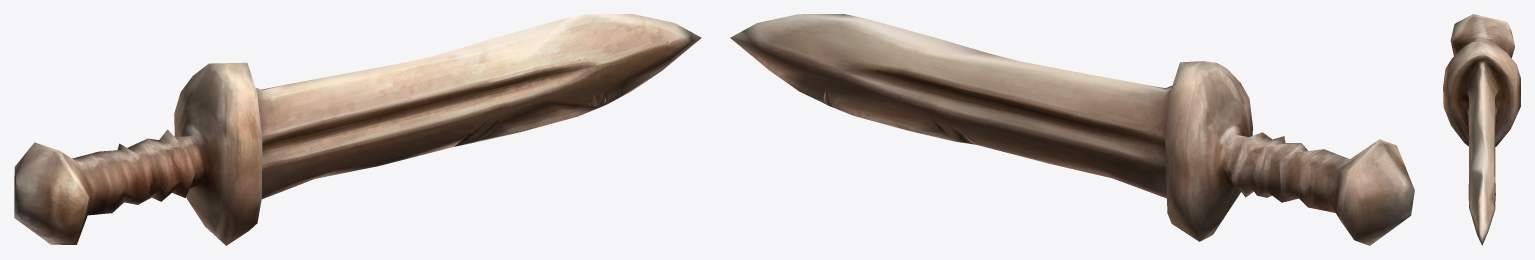
File: Sword.glb
3 views of the same model, side by side, from view 1: azimuth 30°, elevation 25°; view 2: azimuth 150°, elevation 25°; view 3: azimuth 270°, elevation 25° (orthographic). The views are drawn at different scales.
Visible parts, largest first — view 1: tripo_node_af1c66e6-25a8-447f-b82f-cc9cbadfaf6c; view 2: tripo_node_af1c66e6-25a8-447f-b82f-cc9cbadfaf6c; view 3: tripo_node_af1c66e6-25a8-447f-b82f-cc9cbadfaf6c.
Boxes of the visible parts, box(x1,y1,x2,y2) form: tripo_node_af1c66e6-25a8-447f-b82f-cc9cbadfaf6c: box(14, 14, 701, 245); tripo_node_af1c66e6-25a8-447f-b82f-cc9cbadfaf6c: box(730, 14, 1414, 245); tripo_node_af1c66e6-25a8-447f-b82f-cc9cbadfaf6c: box(1443, 14, 1520, 245).
Bounding box in the file's own units: 0.9968 × 0.2493 × 0.1565.
1 material, 1 textured.
